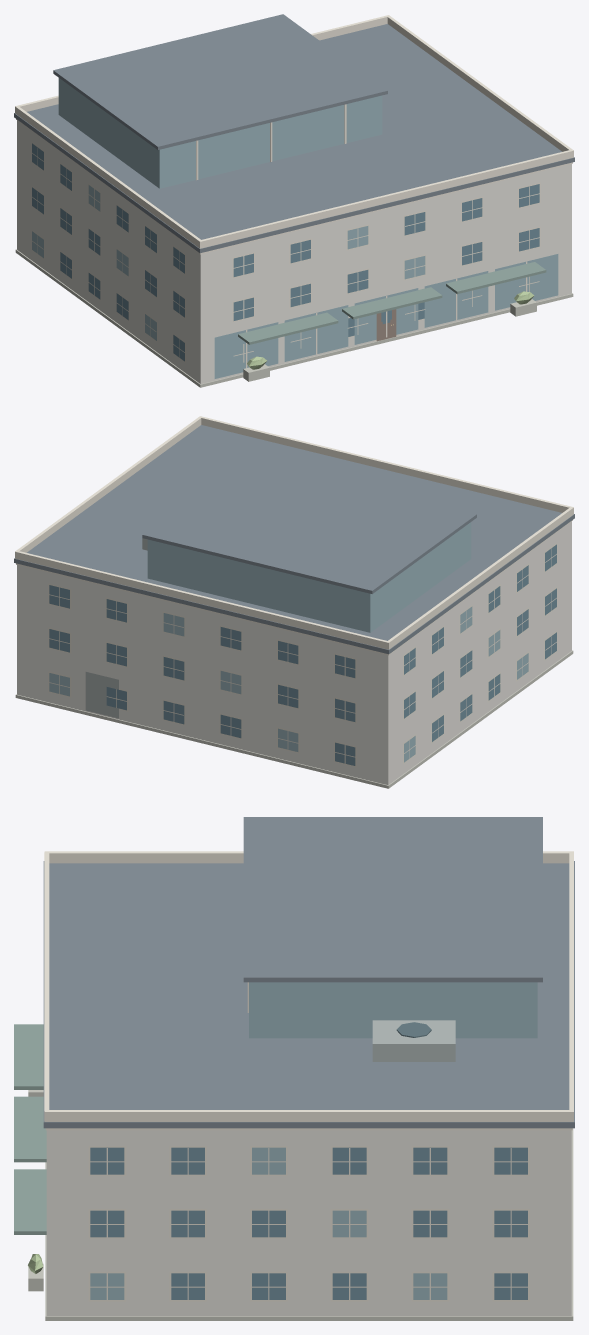
File: office-stepped-court.glb
3 renders of one model, top to bottom at view 1: azimuth 30°, elevation 25°; view 2: azimuth 150°, elevation 25°; view 3: azimuth 270°, elevation 25°, orthographic. The views are drawn at different scales.
Parts seen in each view (by area): view 1: office-stepped-court; view 2: office-stepped-court; view 3: office-stepped-court.
Boxes of the visible parts, x1,y1,x2,y2 form: office-stepped-court: (14,14,574,387); office-stepped-court: (14,416,574,788); office-stepped-court: (14,817,574,1320).
Bounding box in the file's own units: 28.3 × 13.24 × 25.65.
